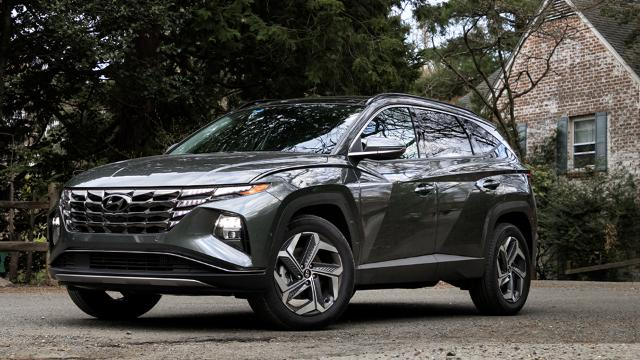hyundai: (46, 92, 538, 330)
